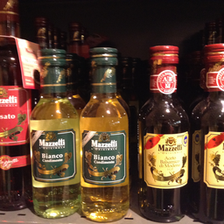vinegar: (136, 46, 191, 224), (79, 47, 134, 221), (27, 48, 78, 218), (1, 1, 30, 211), (190, 43, 223, 222)
